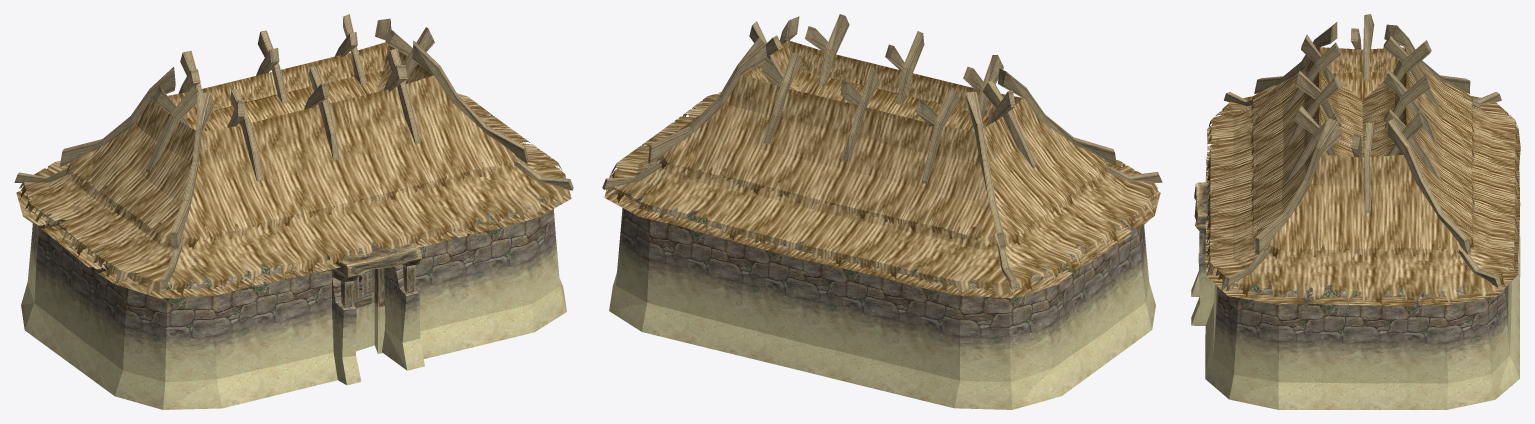
File: C3SMHUT1H.obj
3 views of the same model, side by side, from view 1: azimuth 30°, elevation 25°; view 2: azimuth 150°, elevation 25°; view 3: azimuth 270°, elevation 25° (orthographic). The views are drawn at different scales.
Visible parts, largest first — view 1: Node 0, Node 3; view 2: Node 0, Node 3; view 3: Node 0, Node 3.
Part boxes in pixels (bbox=[...]): Node 0: bbox=[14, 14, 573, 409]; Node 3: bbox=[65, 42, 520, 249]; Node 0: bbox=[602, 14, 1162, 409]; Node 3: bbox=[656, 40, 1111, 249]; Node 0: bbox=[1191, 14, 1520, 409]; Node 3: bbox=[1250, 47, 1474, 261].
Size of the model in its own units: 29.09 by 15.6 by 19.6.
4 materials, 4 textured.
